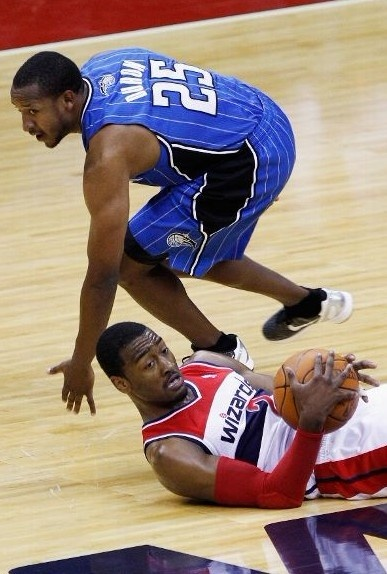falling: (73, 312, 387, 517)
